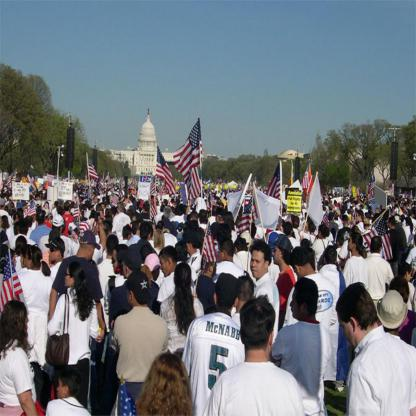face: (338, 310, 359, 350), (291, 289, 308, 320), (251, 252, 266, 279), (112, 250, 124, 274), (58, 378, 70, 401), (160, 256, 171, 278), (273, 246, 285, 265), (65, 268, 76, 287), (21, 309, 29, 335), (210, 259, 218, 276), (218, 248, 227, 263), (11, 253, 18, 272), (49, 247, 57, 262), (26, 253, 33, 270), (21, 252, 28, 269), (348, 237, 356, 251), (177, 227, 185, 240), (408, 268, 413, 282), (151, 225, 157, 235), (357, 213, 362, 223), (32, 213, 37, 223), (16, 217, 20, 226), (23, 205, 28, 212), (389, 221, 393, 228), (102, 205, 106, 211), (95, 197, 98, 204), (46, 204, 49, 210), (404, 207, 407, 212), (130, 199, 133, 204), (92, 208, 95, 213), (156, 200, 158, 206), (413, 214, 415, 219), (38, 197, 40, 202), (353, 203, 355, 207), (410, 205, 412, 208), (407, 205, 409, 207), (415, 203, 416, 207)
